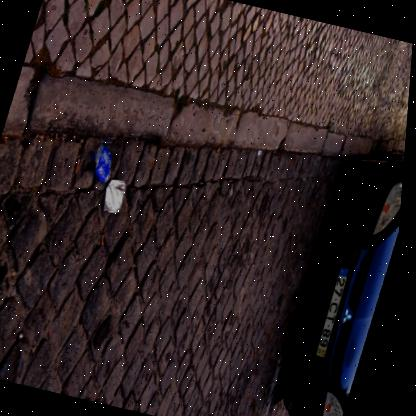Metal: (107, 178, 129, 212), (224, 156, 228, 165)
Plastic: (173, 183, 177, 189)
Waste: (77, 158, 83, 173), (180, 55, 185, 68), (153, 158, 158, 169), (23, 331, 29, 339), (40, 132, 47, 138), (105, 233, 108, 245), (260, 150, 265, 154), (230, 286, 233, 292), (302, 193, 305, 198)
